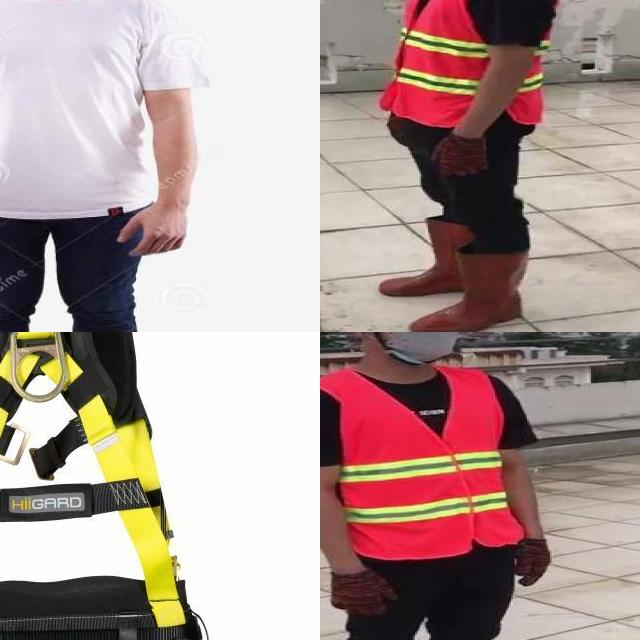Harness: (0, 332, 203, 640)
boots: (410, 253, 529, 332), (378, 219, 472, 296)
face_mask: (373, 332, 472, 360)
hand_glove: (330, 570, 399, 620), (426, 135, 487, 175), (516, 536, 550, 585)
hand_noglove: (110, 182, 196, 272)
person: (357, 0, 590, 332), (320, 332, 567, 640), (0, 0, 211, 332)
vest: (338, 364, 520, 560), (387, 0, 554, 130)
